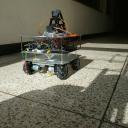cart: (18, 35, 82, 80)
